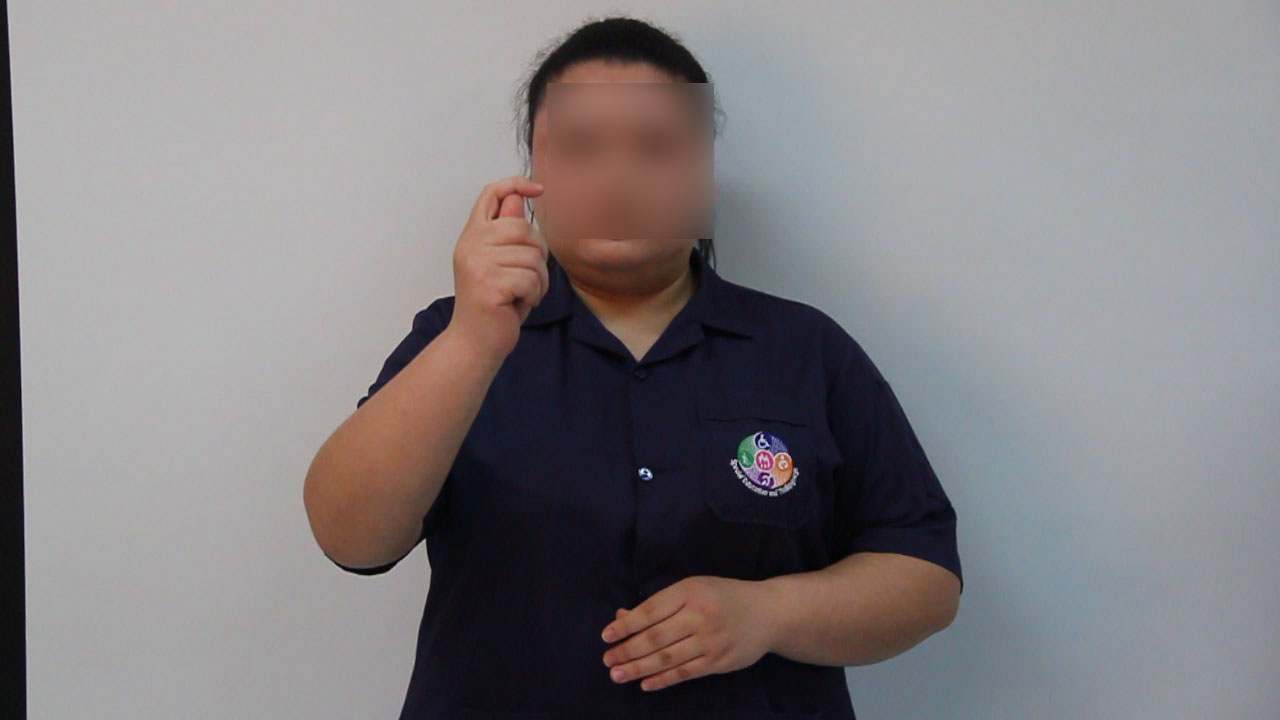or: (444, 174, 560, 354)
